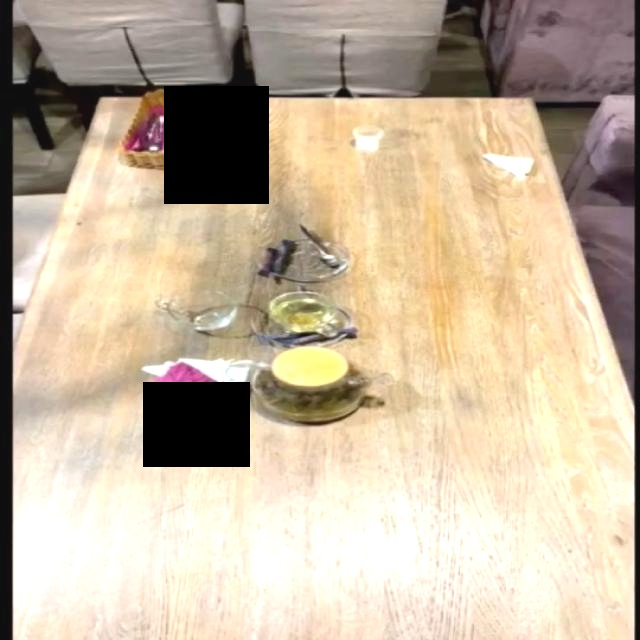tea: (249, 345, 373, 423)
